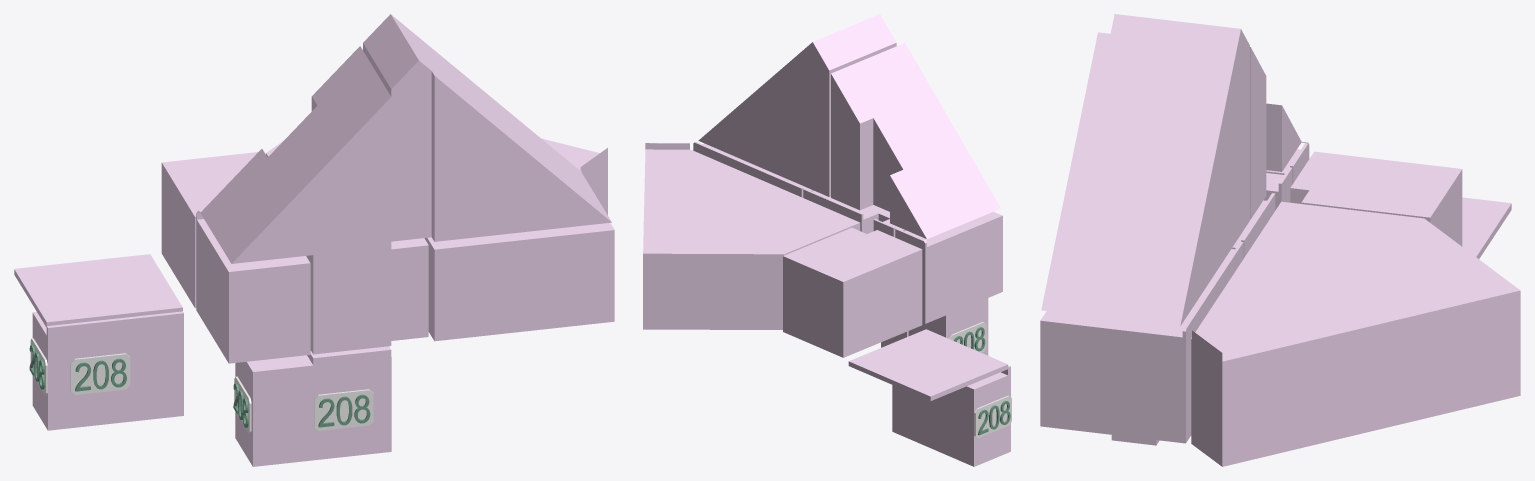
The picture shows the model from 3 angles, left to right: view 1: azimuth 30°, elevation 25°; view 2: azimuth 150°, elevation 25°; view 3: azimuth 270°, elevation 25°; orthographic projection. The views are drawn at different scales.
Parts seen in each view (by area): view 1: g_2, g_6, g_3, g_1, g_9, g_4, g_13, g_12, g_11, g_10, g_0, g_8 (+3 smaller); view 2: g_5, g_3, g_10, g_2, g_9, g_1, g_13, g_4, g_7, g_0, g_6, g_29 (+1 smaller); view 3: g_5, g_2, g_6, g_10, g_3, g_13, g_7, g_9.
Part boxes in pixels (box(x1,y1,x2,y2)): g_2: box(363, 14, 611, 241); g_6: box(424, 169, 614, 341); g_3: box(198, 46, 379, 263); g_1: box(32, 311, 183, 430); g_9: box(196, 210, 310, 363); g_4: box(303, 79, 391, 255); g_13: box(14, 254, 182, 327); g_12: box(289, 346, 391, 462); g_11: box(306, 247, 391, 354); g_10: box(161, 152, 257, 308); g_0: box(235, 357, 295, 466); g_8: box(391, 238, 428, 340); g_5: box(643, 143, 860, 329); g_3: box(831, 54, 1000, 240); g_10: box(783, 227, 922, 357); g_2: box(698, 14, 896, 196); g_9: box(895, 212, 1002, 323); g_1: box(892, 365, 1010, 466); g_13: box(848, 329, 1007, 401); g_4: box(879, 43, 951, 133); g_7: box(803, 189, 905, 237); g_0: box(908, 298, 988, 355); g_6: box(693, 142, 813, 197); g_29: box(974, 395, 1011, 438); g_5: box(1191, 201, 1520, 466); g_2: box(1041, 14, 1249, 326); g_6: box(1040, 241, 1243, 443); g_10: box(1290, 151, 1462, 246); g_3: box(1250, 47, 1308, 219); g_13: box(1462, 197, 1511, 258); g_7: box(1231, 167, 1292, 258); g_9: box(1266, 143, 1309, 184).
Bounding box in the file's own units: 13.83 × 10.1 × 9.92.
